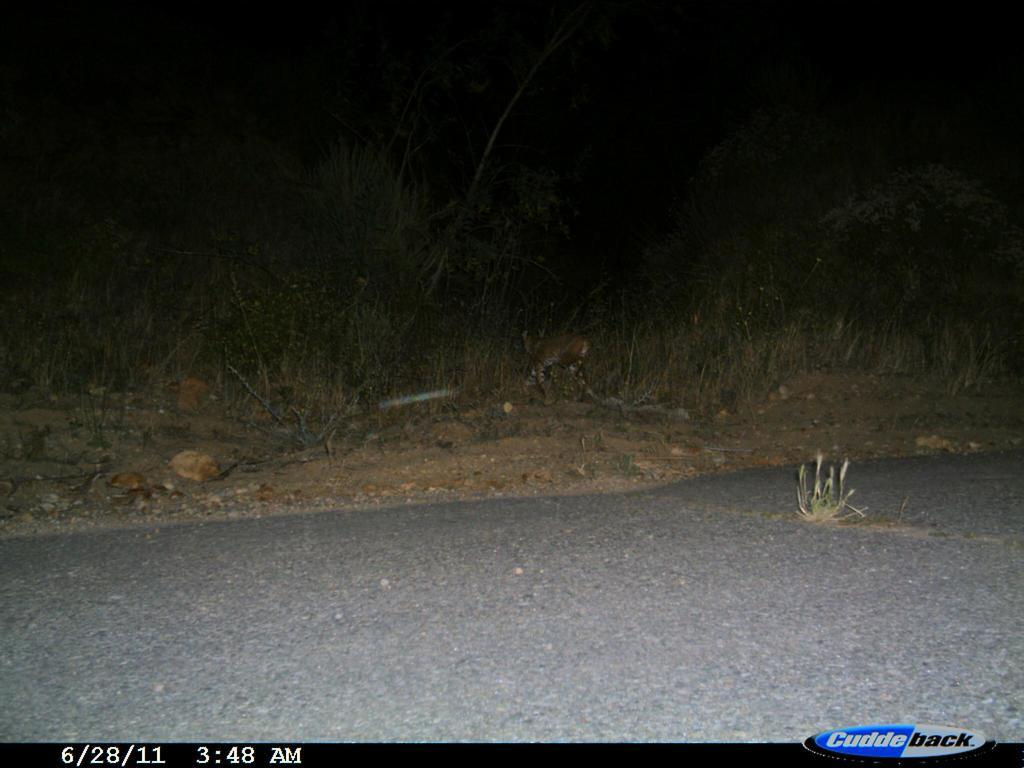bobcat: (472, 291, 638, 457)
